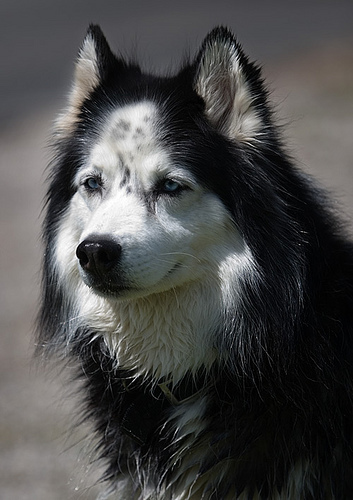dog: (28, 21, 351, 498)
